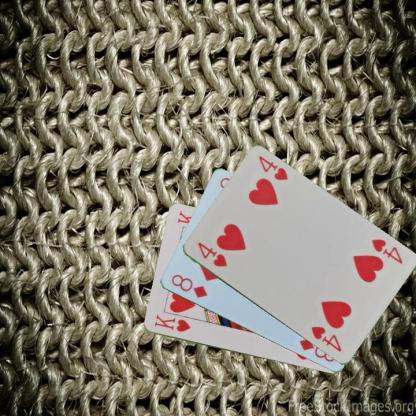4h: (369, 236, 403, 266), (194, 239, 228, 268)
8d: (168, 271, 209, 300)
Kh: (151, 312, 192, 334)
